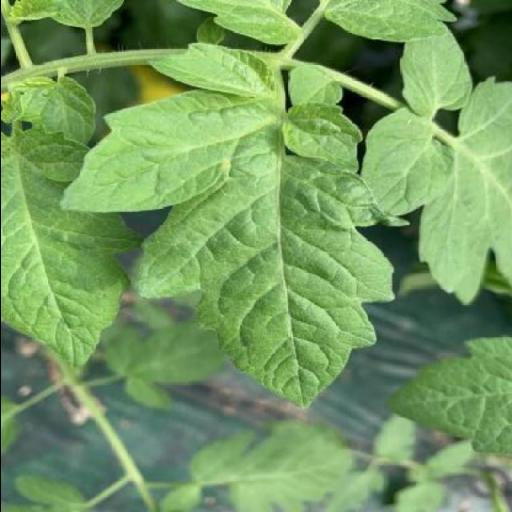Healthy: (60, 90, 408, 408), (147, 42, 273, 96), (400, 20, 470, 117)
